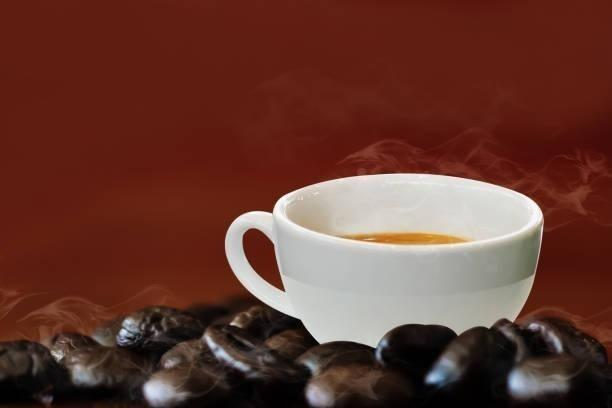cup-handle: (224, 171, 545, 351)
